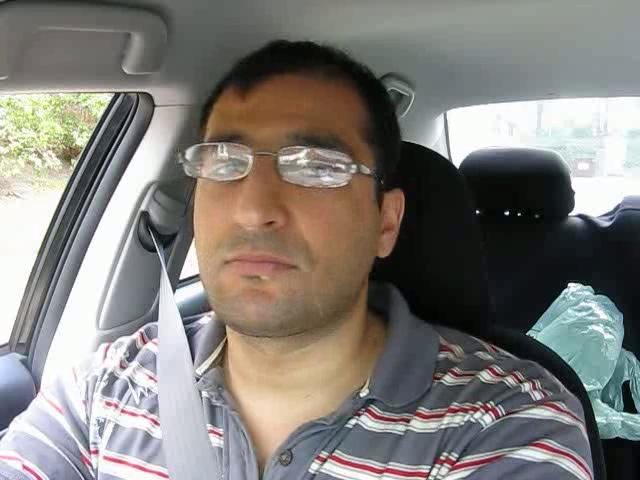no_yawn: (207, 240, 313, 285)
open_eyeL: (193, 142, 260, 182)
open_eyeR: (276, 151, 355, 196)
